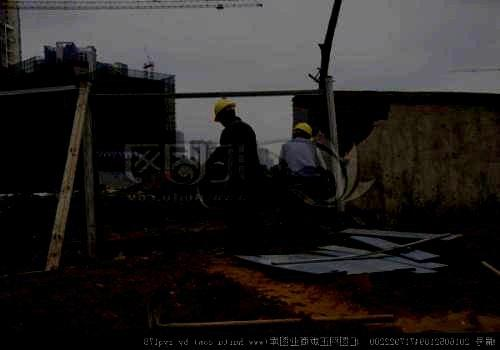helmet: (214, 99, 237, 128), (293, 122, 313, 140)
